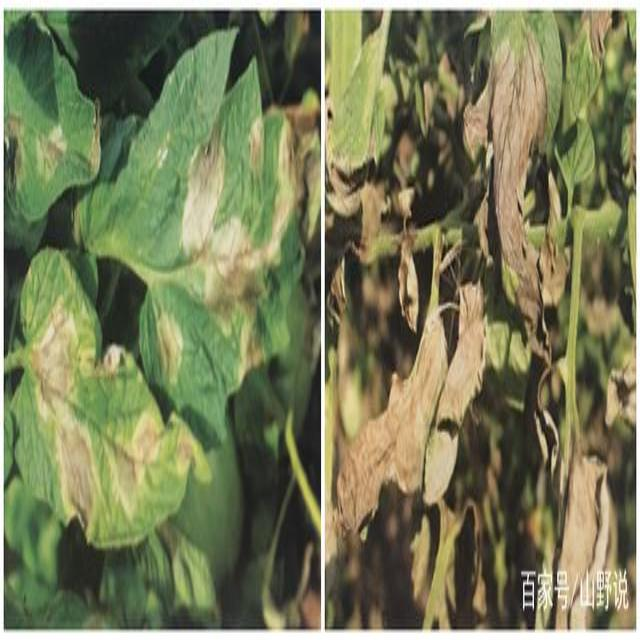Early_blight: (326, 9, 640, 630), (173, 98, 323, 385), (23, 293, 97, 544), (544, 446, 613, 632), (113, 411, 202, 516), (149, 302, 185, 391), (31, 122, 68, 186), (5, 113, 29, 203)
